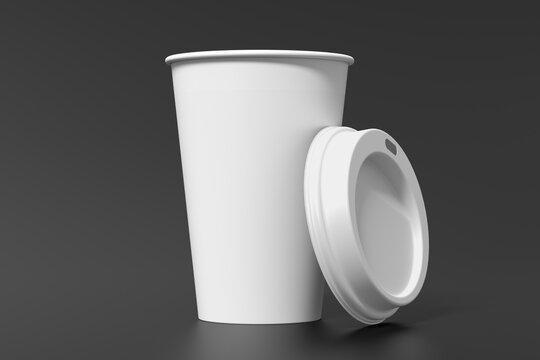cup-disposable: (161, 42, 359, 330)
